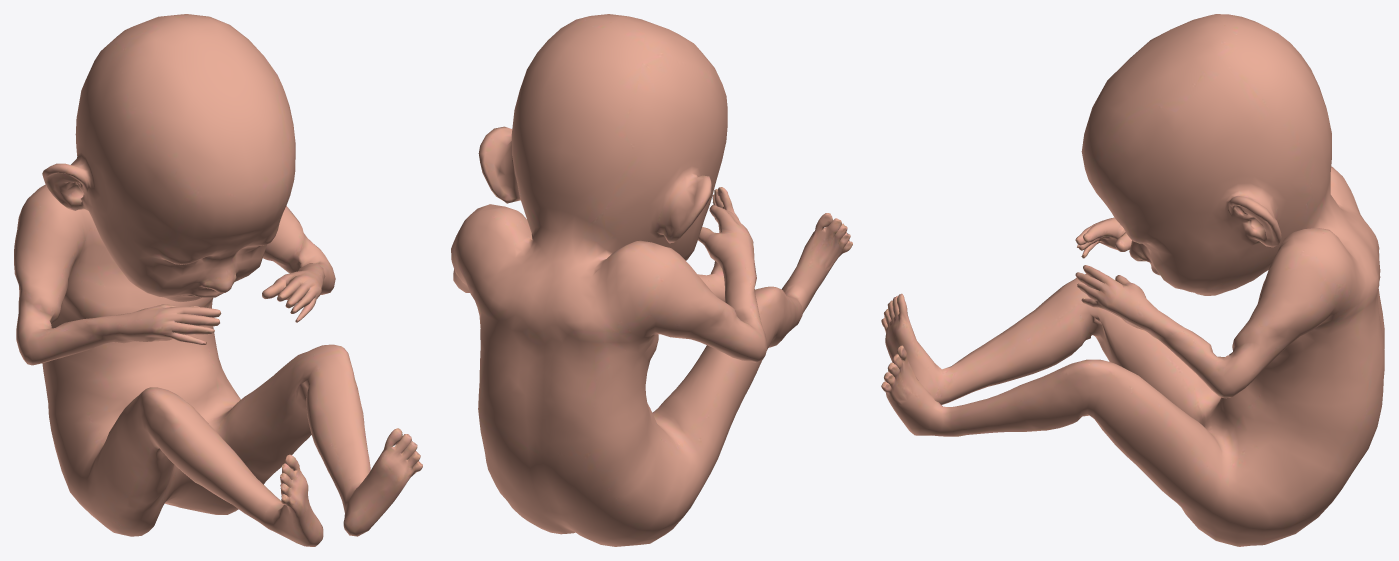
Rendered from pb-w27.09ccdaef.glb.
The picture shows the model from 3 angles, left to right: view 1: azimuth 30°, elevation 25°; view 2: azimuth 150°, elevation 25°; view 3: azimuth 270°, elevation 25°; orthographic projection.
Parts seen in each view (by area): view 1: Baby; view 2: Baby; view 3: Baby.
Part boxes in pixels (box(x1,y1,x2,y2)): Baby: box(14, 14, 422, 546); Baby: box(451, 14, 852, 546); Baby: box(881, 14, 1384, 546).
Bounding box in the file's own units: 0.1676 × 0.2609 × 0.2382.
1 material, 1 textured.
